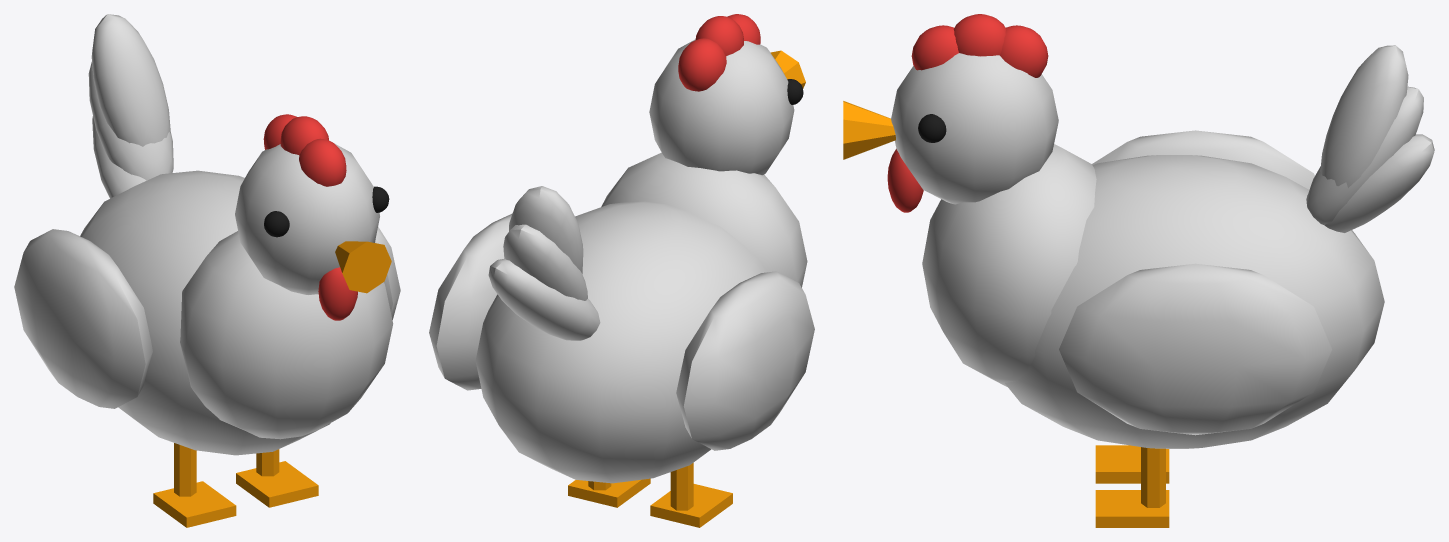
The model's file is hustle_chicken.glb.
3 renders of one model, left to right at view 1: azimuth 30°, elevation 25°; view 2: azimuth 150°, elevation 25°; view 3: azimuth 270°, elevation 25°, orthographic. The views are drawn at different scales.
Visible parts, largest first — view 1: Chicken_body, Wing_R.001, Wing_L.001; view 2: Chicken_body, Wing_R.001, Wing_L.001; view 3: Chicken_body, Wing_L.001, Wing_R.001.
Part boxes in pixels (x1,y1,x2,y2): Chicken_body: (80, 14, 393, 527); Wing_R.001: (14, 229, 152, 408); Wing_L.001: (375, 226, 400, 319); Chicken_body: (475, 14, 807, 527); Wing_R.001: (676, 271, 814, 450); Wing_L.001: (429, 213, 512, 390); Chicken_body: (843, 14, 1434, 527); Wing_L.001: (1059, 263, 1331, 435); Wing_R.001: (1092, 130, 1314, 189).
Size of the model in its own units: 0.3761 by 0.5 by 0.5624.
